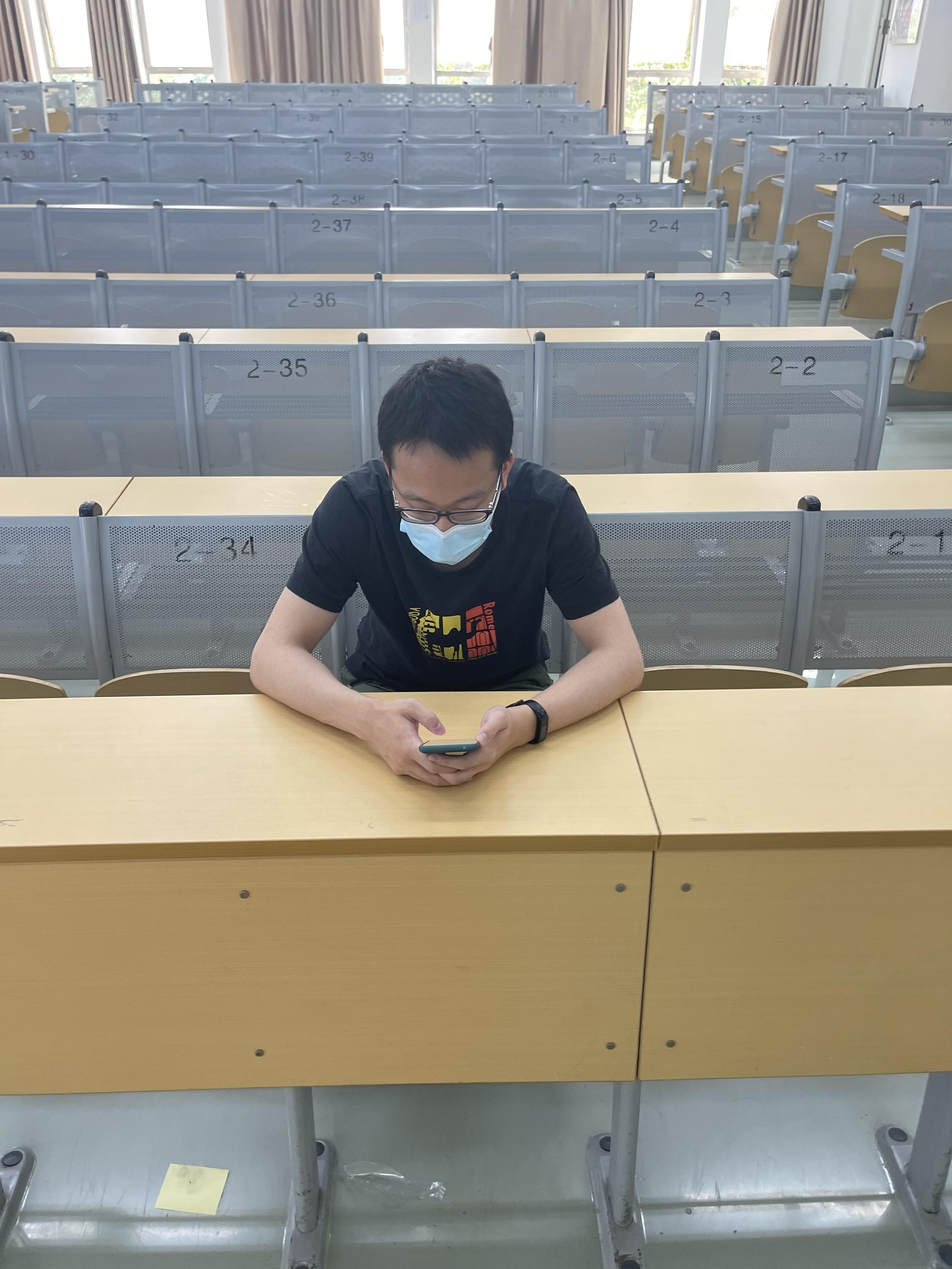phone: (246, 356, 644, 785)
